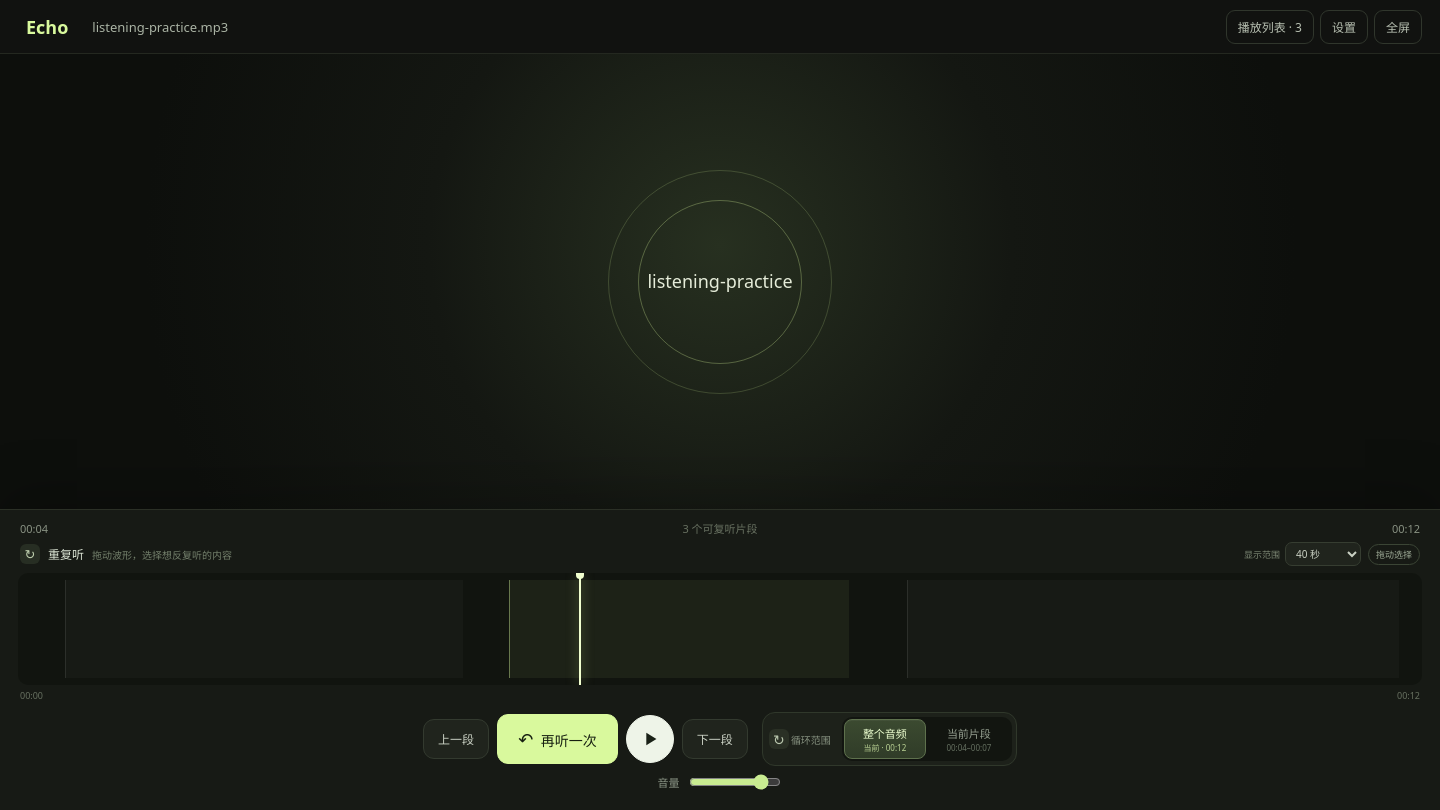
Test: selection loop workbench › shows an infinite-loop status without inline configuration controls
Press the mouse on the slider named "拖动选择要重复听的内容" at point(720, 629), box left=18, top=573, right=1422, bottom=685
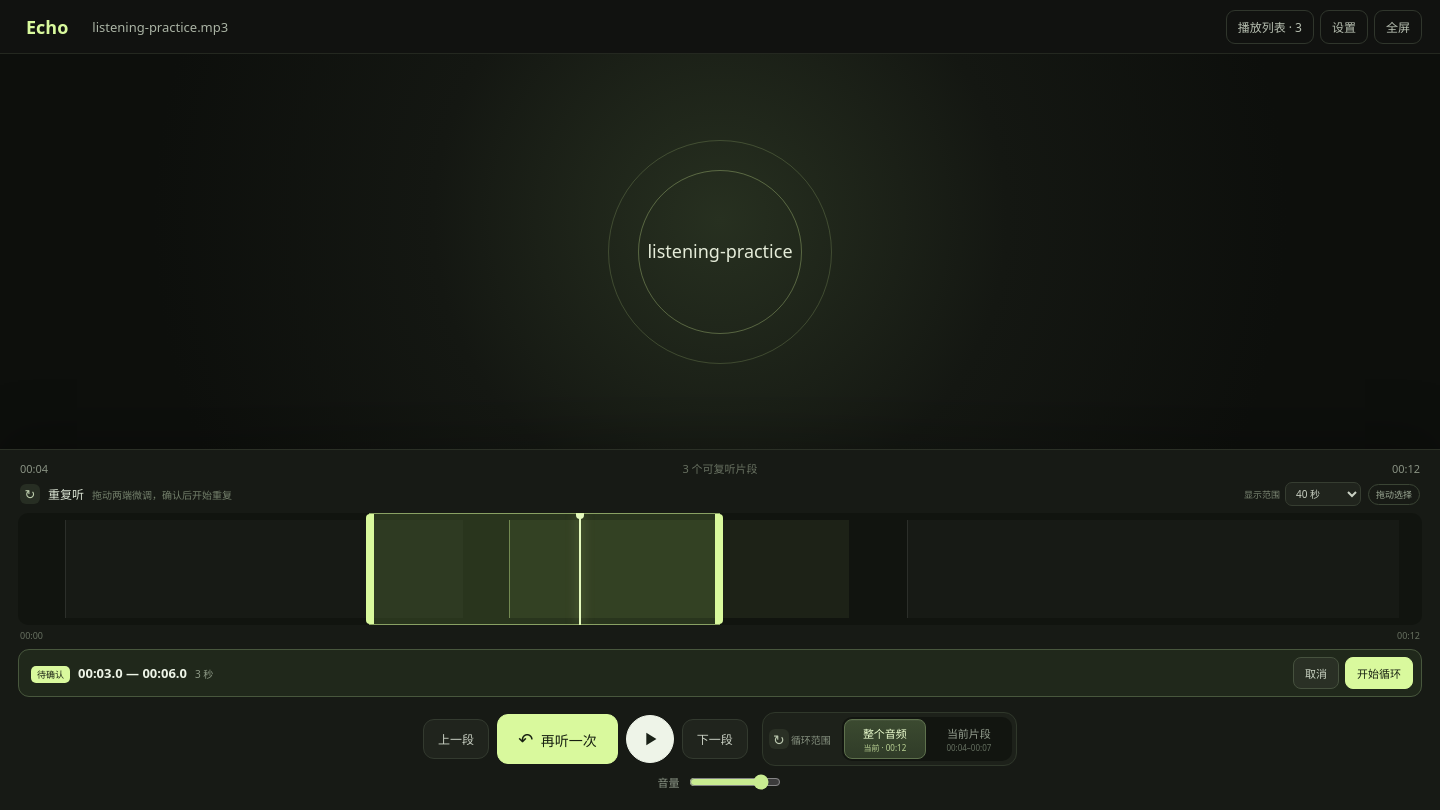
Click the button "开始循环" at point(1379, 673), box left=1345, top=657, right=1413, bottom=689
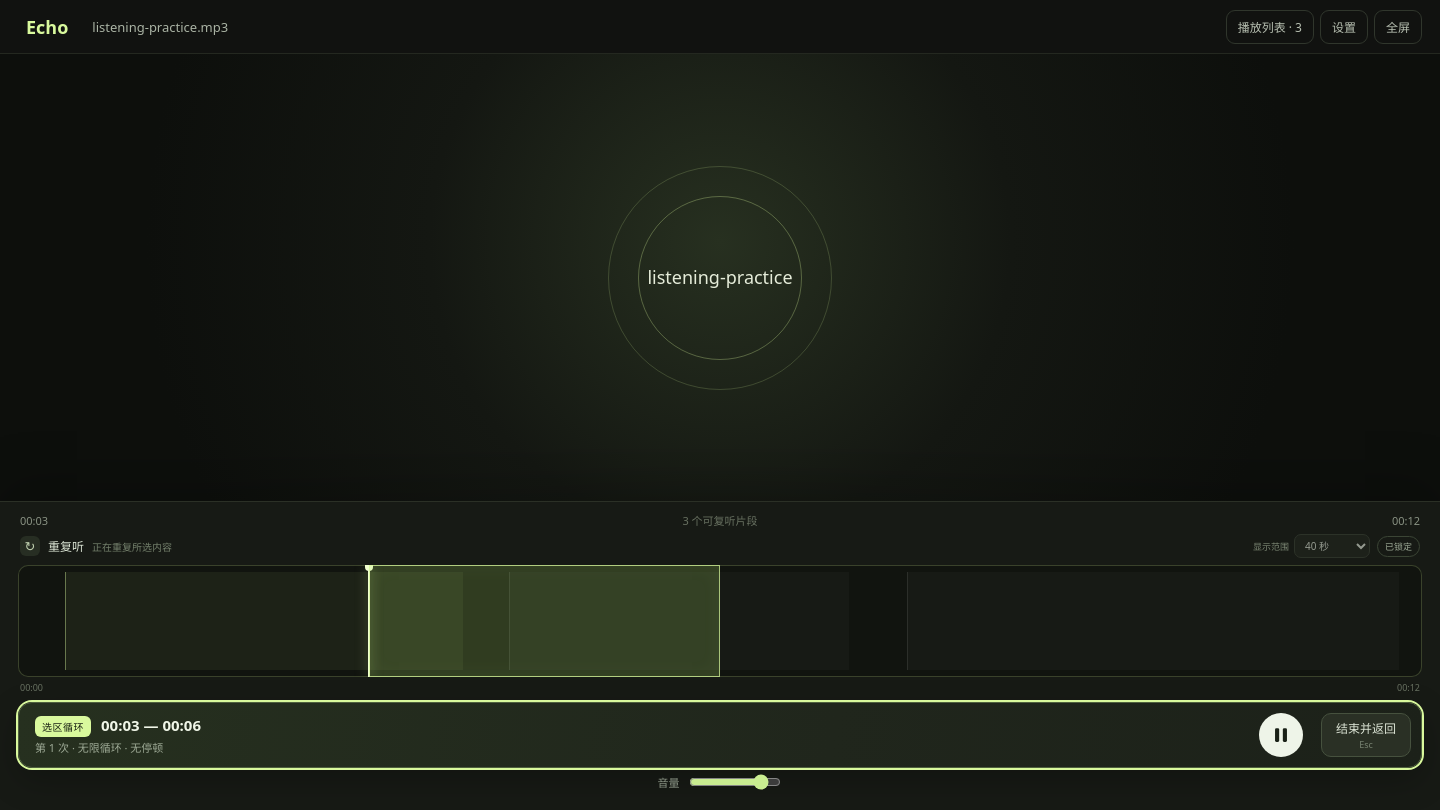
Now the text "第 1 次 · 无限循环 · 无停顿" is shown, box left=35, top=740, right=163, bottom=755
